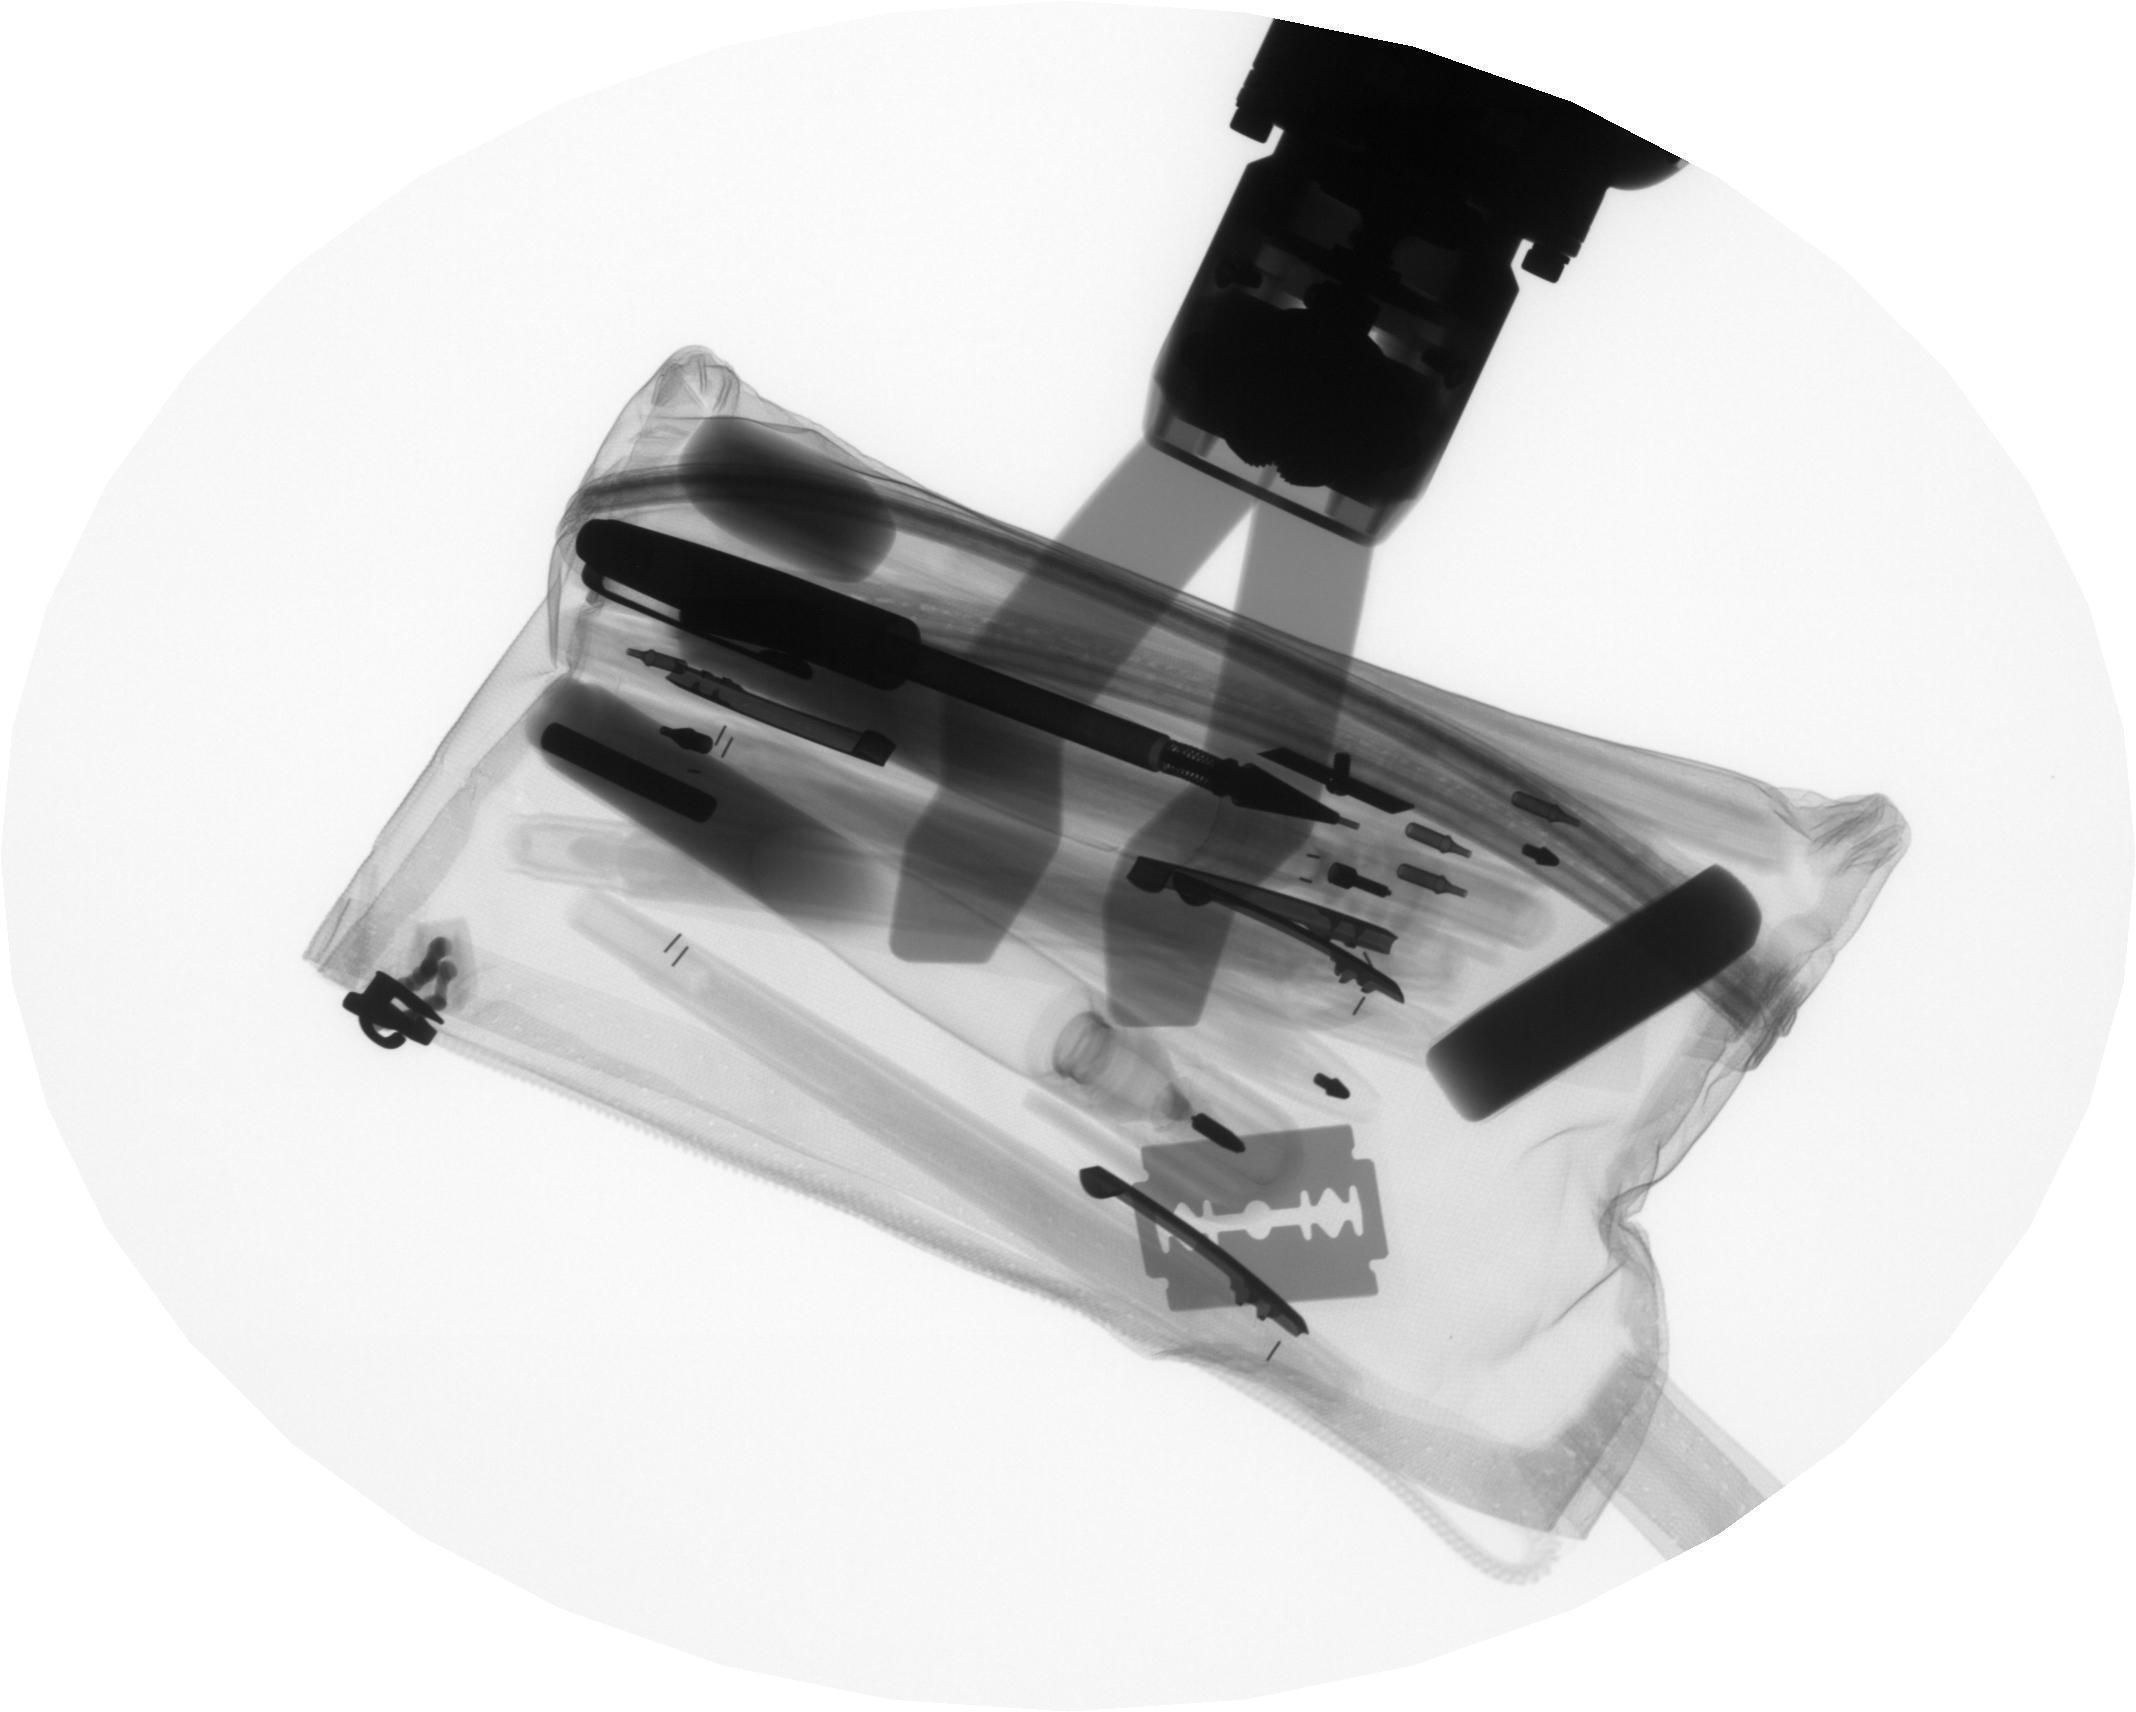RazorBlade: (1128, 1115, 1397, 1322)
